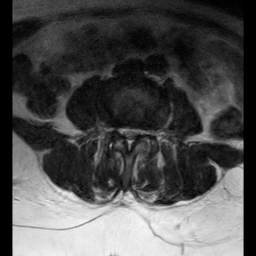CCS_normal: (125, 120, 133, 157)
LFS_stenosis: (140, 120, 148, 142)
LLS_stenosis: (133, 120, 140, 147)
RFS_severe_stenosis: (109, 119, 117, 139)
RLS_stenosis: (117, 120, 125, 144)
